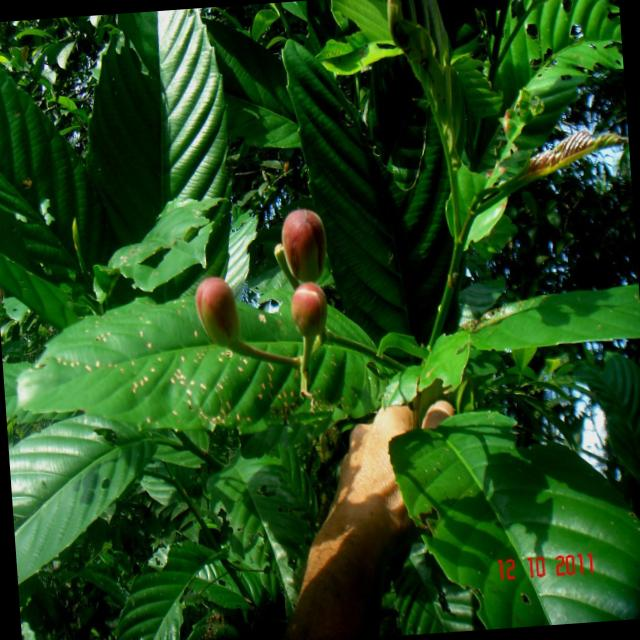Simpoh-Lak: (177, 195, 338, 362), (273, 195, 332, 288), (190, 266, 243, 354), (286, 279, 331, 341)
